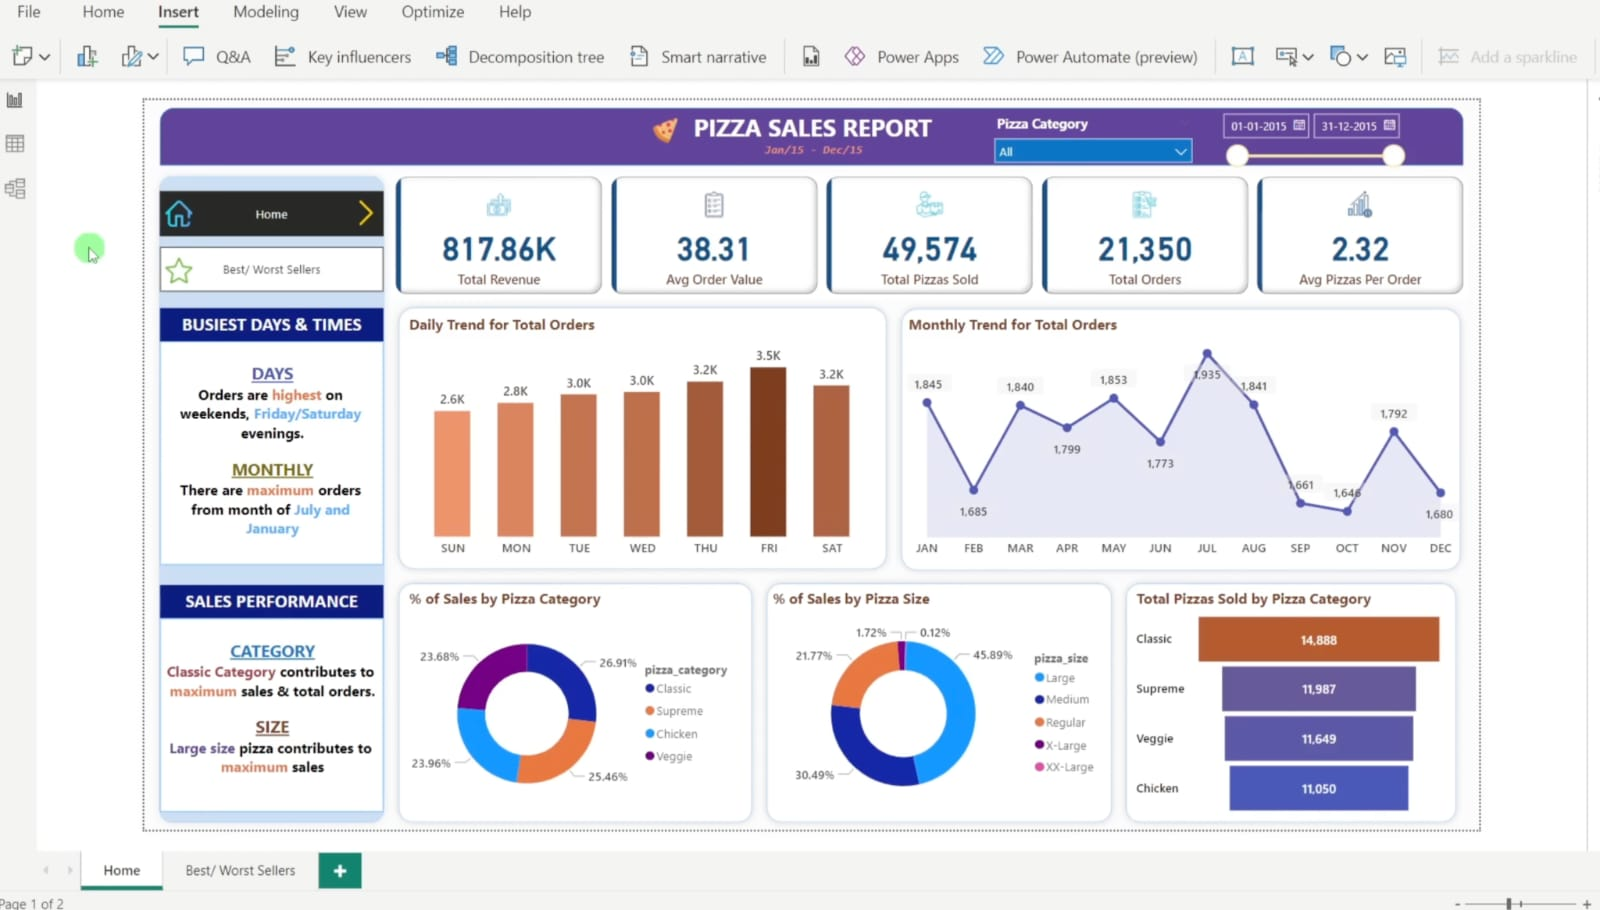

The dashboard page shown, as its layout file describes it:
{"tool":"powerbi","page":{"name":"Home","canvas":[1500,820],"ordinal":0},"visuals":[{"type":"cardVisual","fields":{"Data":["pizza_sales.Total Revenue"]},"box":[321.7,105,243.3,196.7],"z":0},{"type":"cardVisual","fields":{"Data":["pizza_sales.total Pizzas Sold"]},"box":[791.7,106.7,188.3,195],"z":1000},{"type":"cardVisual","fields":{"Data":["pizza_sales.Average Order Value"]},"box":[553.3,105,246.7,196.7],"z":2000},{"type":"cardVisual","fields":{"Data":["pizza_sales.Avg Pizza Per Order"]},"box":[1163.3,106.7,215,195],"z":3000},{"type":"cardVisual","fields":{"Data":["pizza_sales.Total Orders"]},"box":[968.3,106.7,206.7,195],"z":4000},{"type":"shape","box":[36.7,0,1460,95],"z":5000},{"type":"textbox","box":[641.7,16.7,315,48.3],"z":6000},{"type":"textbox","box":[735,55,130,35],"z":7000},{"type":"shape","box":[335,300,518.3,301.7],"z":8000},{"type":"columnChart","title":"Daily Trend for Total Orders","fields":{"Category":["pizza_sales.Order Day"],"Y":["pizza_sales.Total Orders"]},"box":[348.3,330,493.3,243.3],"z":9000},{"type":"shape","box":[873.3,300,500,301.7],"z":10000},{"type":"areaChart","title":"Monthly Trend for Total Orders","fields":{"Category":["pizza_sales.Order Month"],"Y":["pizza_sales.Total Orders"]},"box":[886.7,315,471.7,271.7],"z":11000},{"type":"shape","box":[335,598.3,341.7,221.7],"z":12000},{"type":"shape","box":[676.7,600,341.7,220],"z":13000},{"type":"shape","box":[1016.7,598.3,361.7,221.7],"z":14000},{"type":"donutChart","title":"% of sales per pizza_category","fields":{"Category":["pizza_sales.pizza_category"],"Y":["pizza_sales.Total Revenue"]},"box":[348.3,616.7,316.7,186.7],"z":15000},{"type":"donutChart","title":"Pizza_Size","fields":{"Y":["pizza_sales.Total Revenue"],"Category":["pizza_sales.pizza_size"]},"box":[693.3,616.7,308.3,186.7],"z":16000},{"type":"shape","box":[36.7,106.7,290,713.3],"z":17000},{"type":"textbox","box":[43.3,296.7,278.3,33.3],"z":18000},{"type":"textbox","box":[41.7,330,278.3,206.7],"z":19000},{"type":"textbox","box":[41.7,586.7,278.3,233.3],"z":20000},{"type":"textbox","box":[41.7,553.3,278.3,33.3],"z":21000},{"type":"slicer","fields":{"Values":["pizza_sales.pizza_category"]},"box":[1001.7,16.7,226.7,63.3],"z":22000},{"type":"slicer","fields":{"Values":["pizza_sales.order_date"]},"box":[1245,5,226.7,100],"z":23000},{"type":"pageNavigator","box":[41.7,106.7,278.3,41.7],"z":24000},{"type":"pageNavigator","box":[41.7,161.7,278.3,41.7],"z":25000},{"type":"image","box":[143.3,111.7,300,31.7],"z":26000},{"type":"image","box":[23.3,106.7,80,43.3],"z":27000},{"type":"image","box":[0,166.7,116.7,33.3],"z":28000},{"type":"funnel","fields":{"Category":["pizza_sales.pizza_category"],"Y":["pizza_sales.total Pizzas Sold"]},"box":[1033.3,616.7,325,186.7],"z":28001}]}

Visuals, with their boxes on the page's 1500x820 design canvas (x1, y1, x2, y2). These are canvas units, not pixel positions in the 1600x910 screenshot, which may show the page scaled, cropped or inside an application window:
cardVisual - pizza_sales.Total Revenue: box(322, 105, 565, 302)
cardVisual - pizza_sales.total Pizzas Sold: box(792, 107, 980, 302)
cardVisual - pizza_sales.Average Order Value: box(553, 105, 800, 302)
cardVisual - pizza_sales.Avg Pizza Per Order: box(1163, 107, 1378, 302)
cardVisual - pizza_sales.Total Orders: box(968, 107, 1175, 302)
shape: box(37, 0, 1497, 95)
textbox: box(642, 17, 957, 65)
textbox: box(735, 55, 865, 90)
shape: box(335, 300, 853, 602)
"Daily Trend for Total Orders" columnChart: box(348, 330, 842, 573)
shape: box(873, 300, 1373, 602)
"Monthly Trend for Total Orders" areaChart: box(887, 315, 1358, 587)
shape: box(335, 598, 677, 820)
shape: box(677, 600, 1018, 820)
shape: box(1017, 598, 1378, 820)
"% of sales per pizza_category" donutChart: box(348, 617, 665, 803)
"Pizza_Size" donutChart: box(693, 617, 1002, 803)
shape: box(37, 107, 327, 820)
textbox: box(43, 297, 322, 330)
textbox: box(42, 330, 320, 537)
textbox: box(42, 587, 320, 820)
textbox: box(42, 553, 320, 587)
slicer - pizza_sales.pizza_category: box(1002, 17, 1228, 80)
slicer - pizza_sales.order_date: box(1245, 5, 1472, 105)
pageNavigator: box(42, 107, 320, 148)
pageNavigator: box(42, 162, 320, 203)
image: box(143, 112, 443, 143)
image: box(23, 107, 103, 150)
image: box(0, 167, 117, 200)
funnel - pizza_sales.pizza_category x pizza_sales.total Pizzas Sold: box(1033, 617, 1358, 803)
